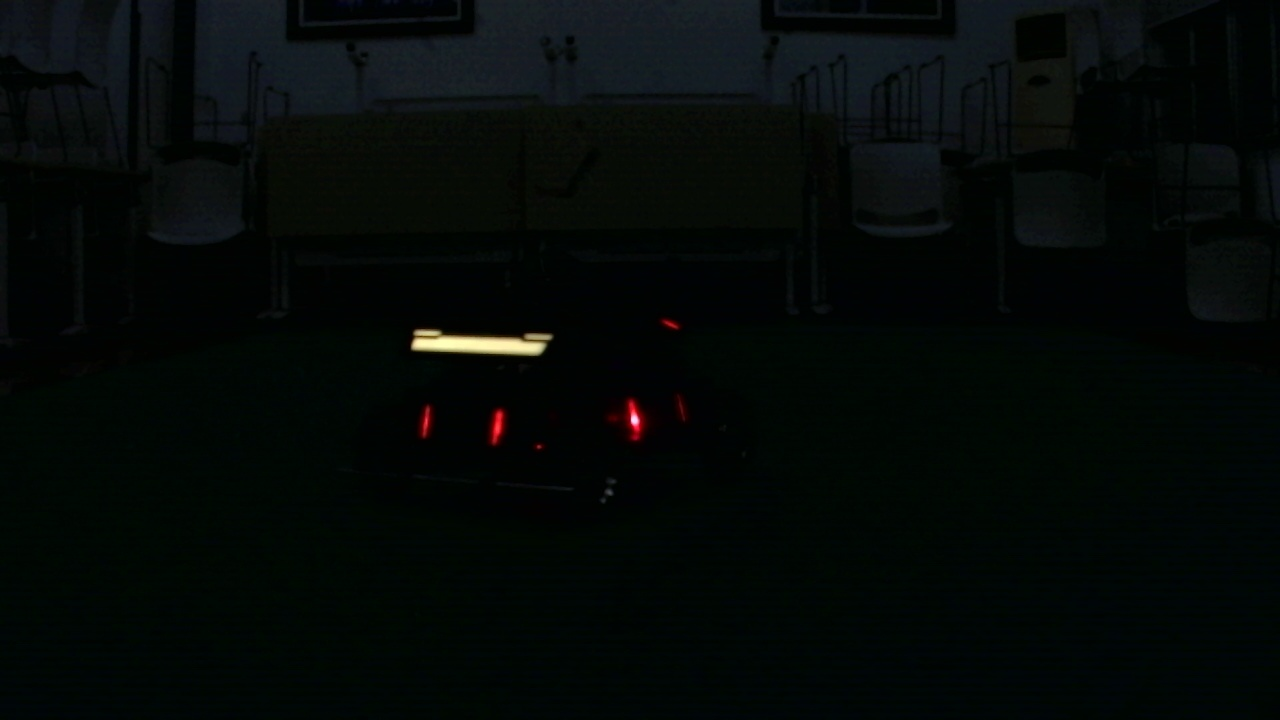lamp: (623, 396, 643, 441), (417, 404, 433, 445), (489, 407, 503, 449)
pair1: (419, 408, 506, 442)
